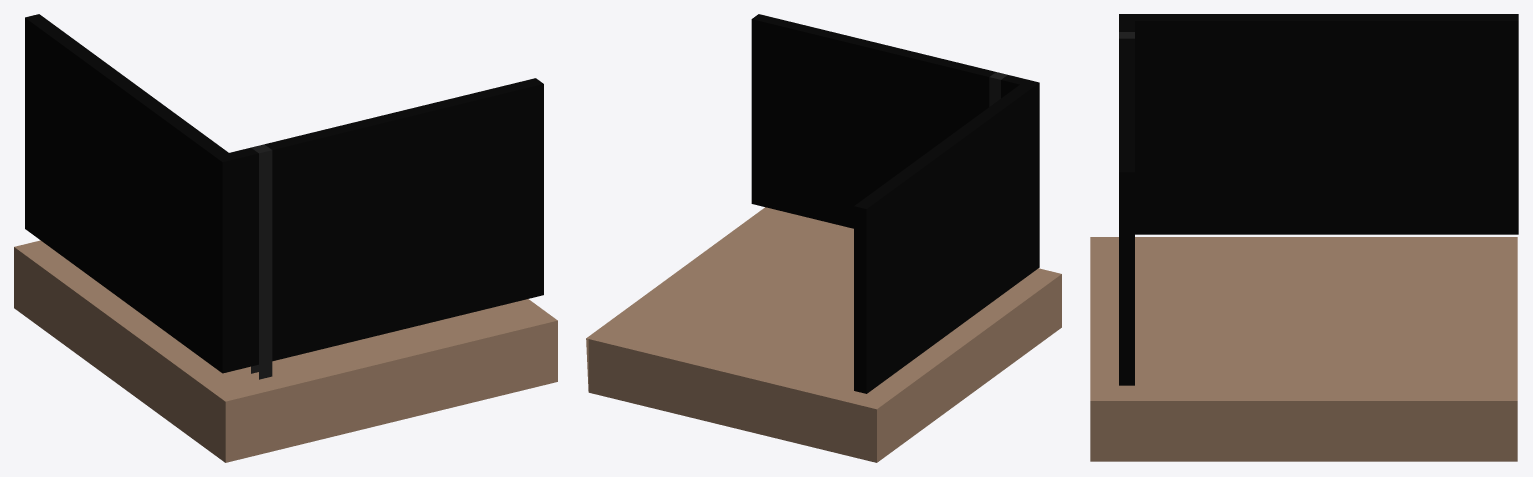
Rendered from Modular_Balcony_Edge_L.FBX.
3 renders of one model, left to right at view 1: azimuth 30°, elevation 25°; view 2: azimuth 150°, elevation 25°; view 3: azimuth 270°, elevation 25°, orthographic. The views are drawn at different scales.
Parts seen in each view (by area): view 1: Modular_Balcony_Edge_L; view 2: Modular_Balcony_Edge_L; view 3: Modular_Balcony_Edge_L.
Part boxes in pixels (x1,y1,x2,y2): Modular_Balcony_Edge_L: [14, 14, 557, 462]; Modular_Balcony_Edge_L: [586, 14, 1061, 462]; Modular_Balcony_Edge_L: [1090, 14, 1518, 461].
Size of the model in its own units: 11.53 by 9.53 by 12.72.
